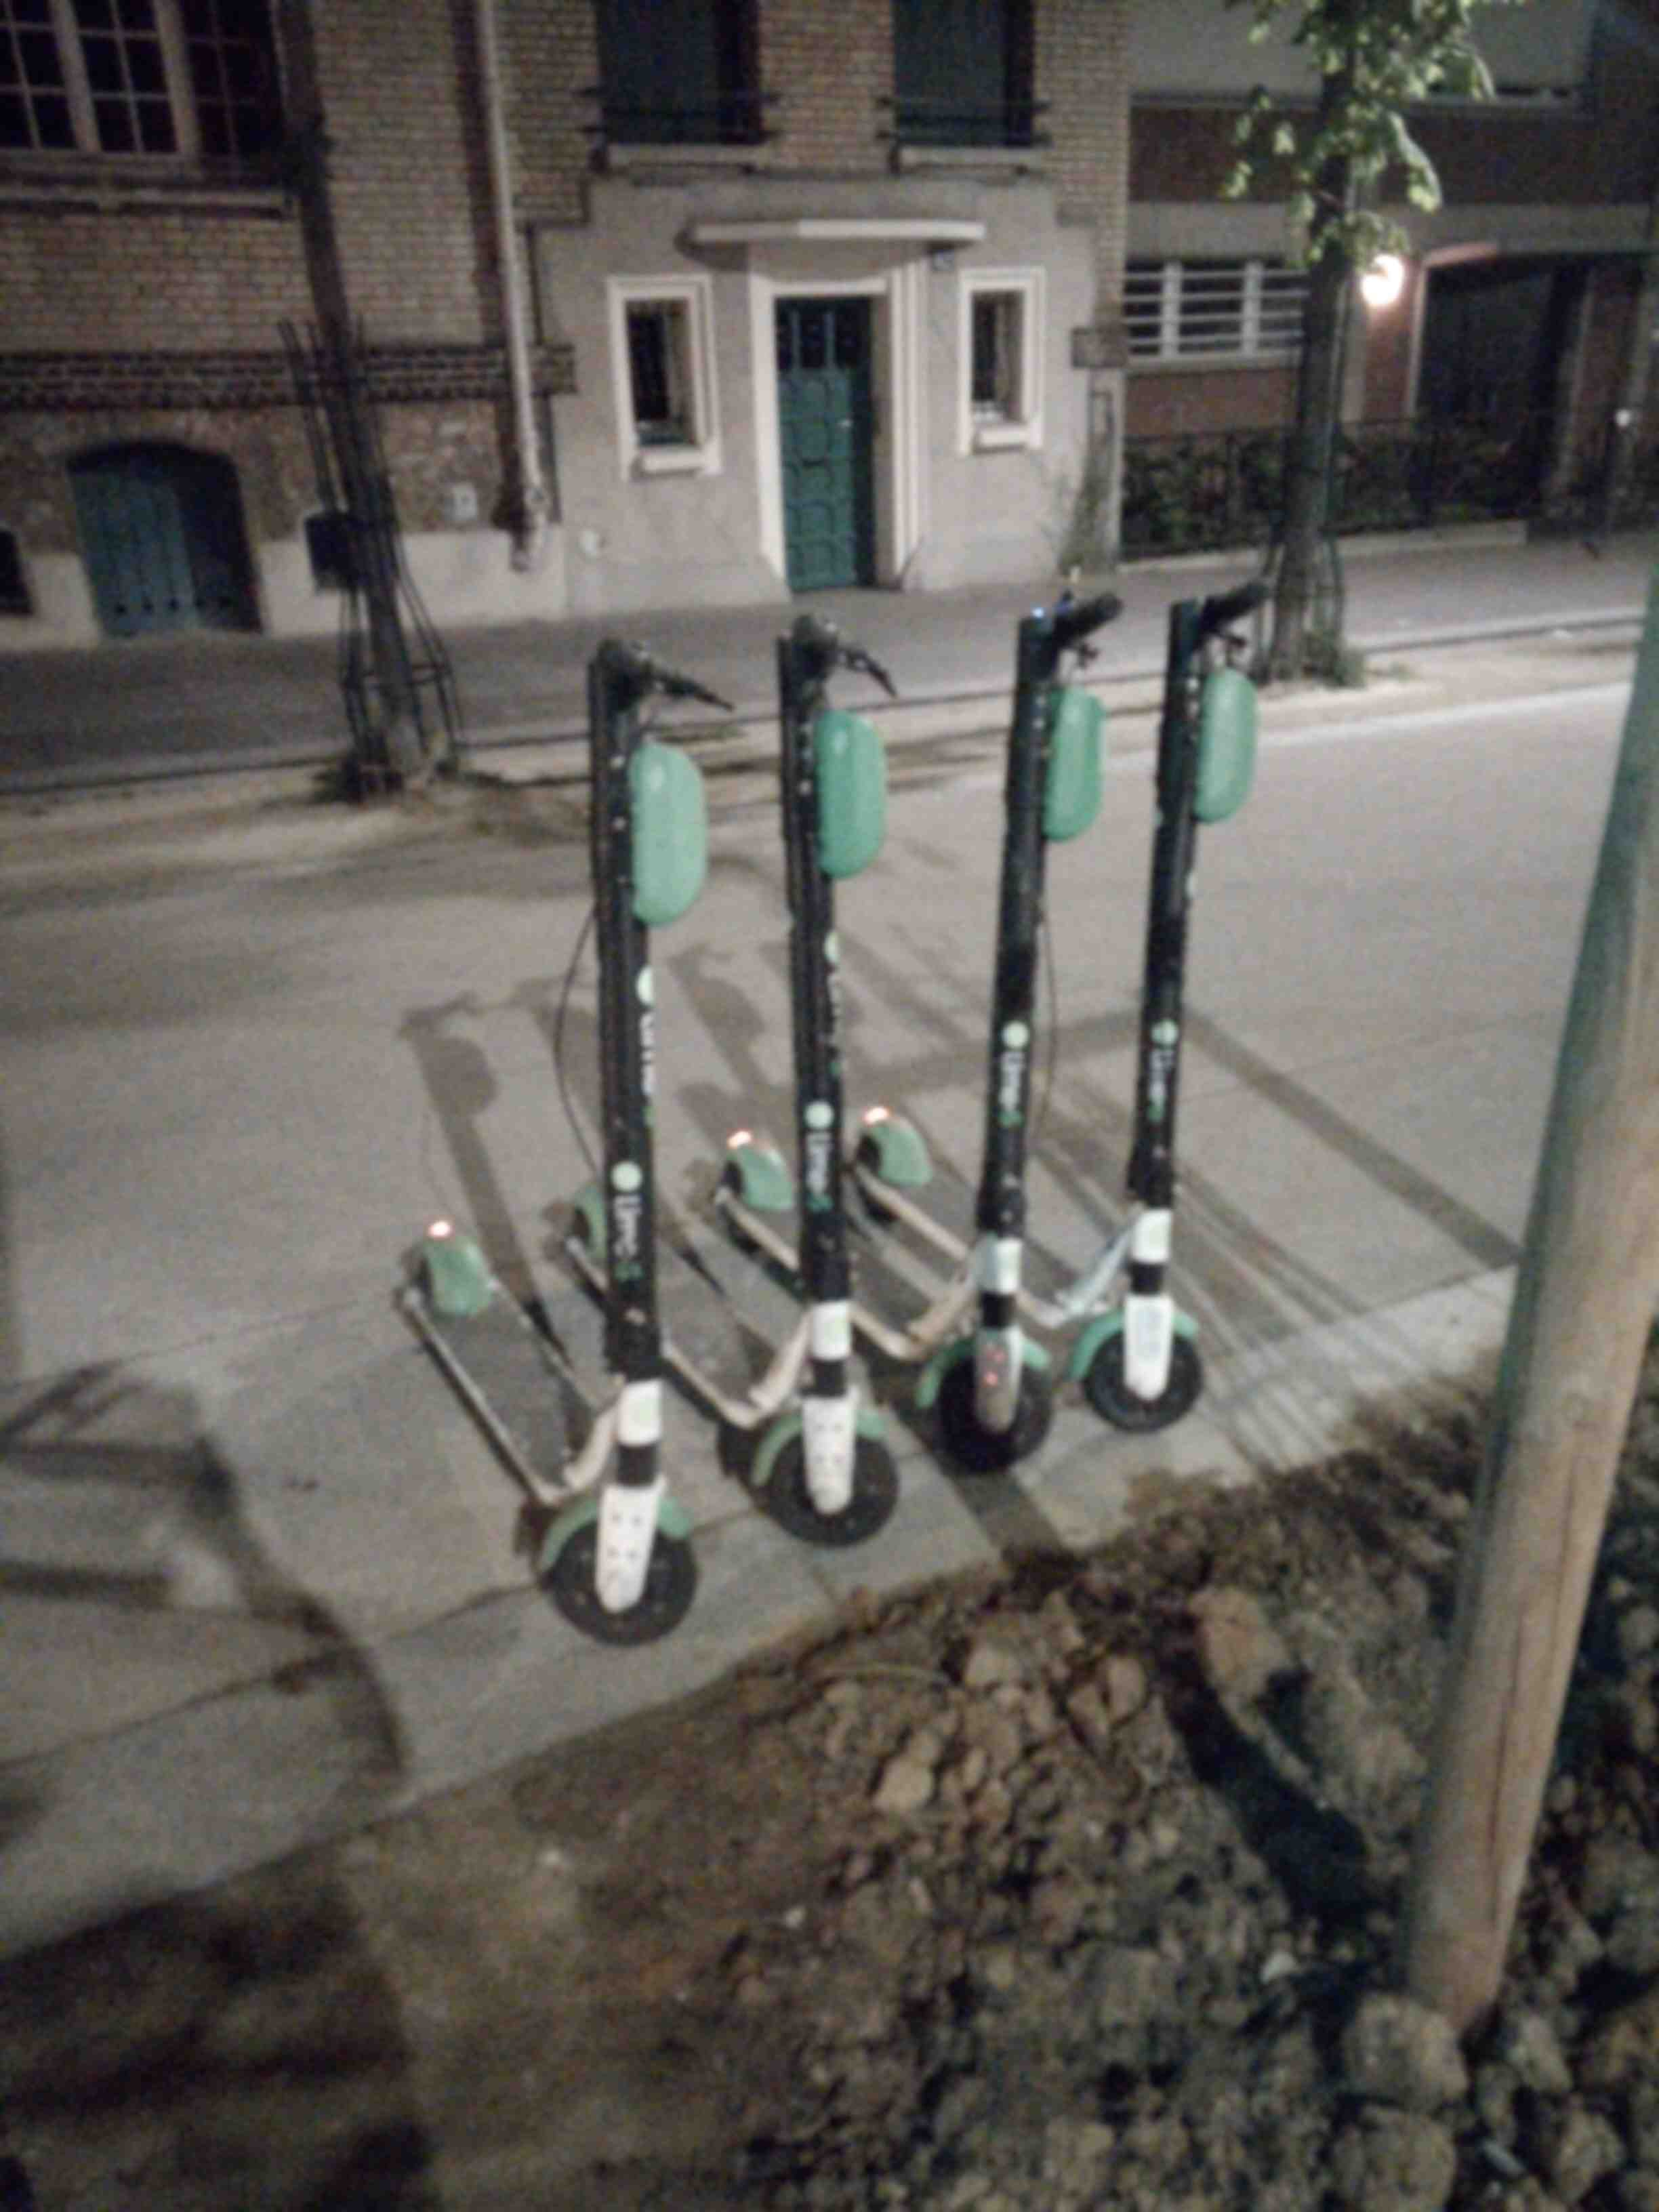too close: (477, 1472, 739, 1791), (713, 1388, 962, 1677), (1086, 1266, 1298, 1566), (913, 1315, 1086, 1634)
